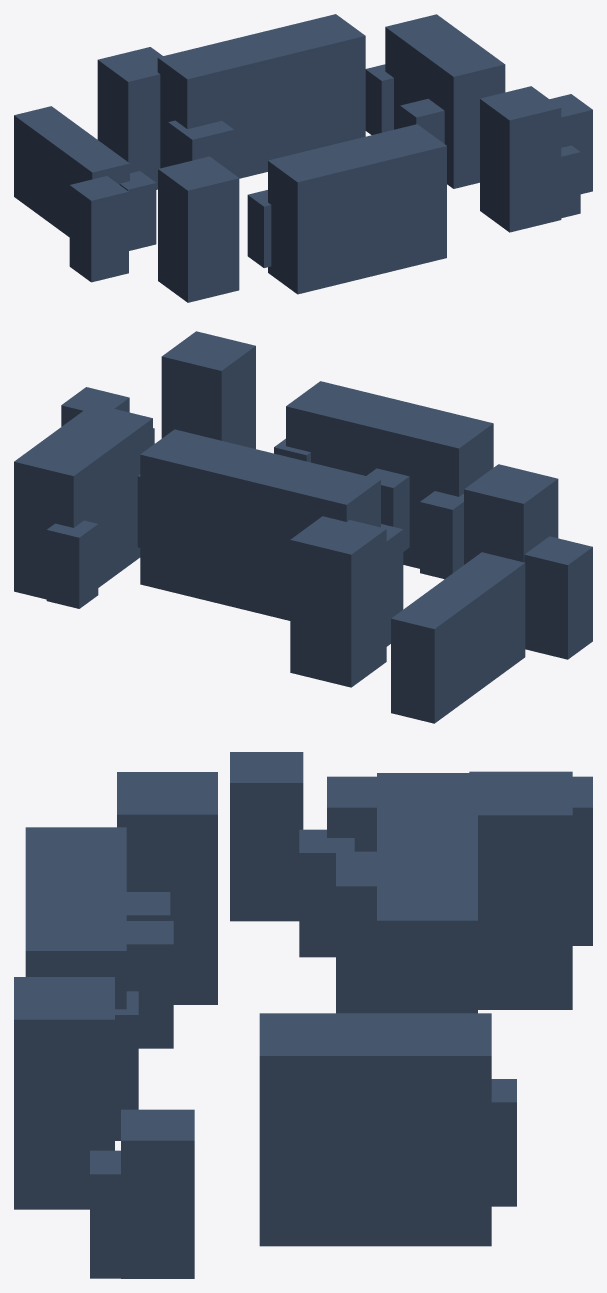
The model's file is vending-machine-scenery.dae.
3 views of the same model, one above another, from view 1: azimuth 30°, elevation 25°; view 2: azimuth 150°, elevation 25°; view 3: azimuth 270°, elevation 25° (orthographic). The views are drawn at different scales.
Parts seen in each view (by area): view 1: Cube_017, Cube_013, Cube_014, Cube_016, Cube_015, Cube_026, Cube_012, Cube_027, Cube_011, Cube_025, Cube_018, Cube_023 (+3 smaller); view 2: Cube_013, Cube_014, Cube_026, Cube_017, Cube_012, Cube_016, Cube_015, Cube_027, Cube_023, Cube_020, Cube_021, Cube_011 (+1 smaller); view 3: Cube_014, Cube_013, Cube_012, Cube_016, Cube_015, Cube_017, Cube_025, Cube_027, Cube_026, Cube_011, Cube_021, Cube_018 (+4 smaller).
Boxes of the visible parts, x1,y1,x2,y2 form: Cube_017: (268, 124, 446, 294); Cube_013: (157, 14, 365, 178); Cube_014: (385, 14, 505, 188); Cube_016: (480, 86, 561, 232); Cube_015: (158, 156, 239, 302); Cube_026: (14, 106, 129, 237); Cube_012: (97, 47, 162, 189); Cube_027: (69, 176, 128, 282); Cube_011: (168, 120, 234, 173); Cube_025: (549, 94, 592, 194); Cube_018: (119, 171, 156, 250); Cube_023: (365, 64, 393, 134); Cube_013: (140, 429, 380, 620); Cube_014: (14, 403, 152, 599); Cube_026: (391, 552, 525, 723); Cube_017: (286, 381, 493, 568); Cube_012: (290, 516, 386, 687); Cube_016: (161, 331, 255, 448); Cube_015: (464, 464, 558, 564); Cube_027: (524, 536, 592, 659); Cube_023: (46, 520, 98, 608); Cube_020: (420, 491, 463, 579); Cube_021: (367, 468, 409, 551); Cube_011: (381, 524, 403, 646); Cube_014: (259, 1013, 491, 1246); Cube_013: (377, 773, 477, 1013); Cube_012: (469, 771, 572, 1009); Cube_016: (14, 977, 114, 1209); Cube_015: (117, 772, 217, 1004); Cube_017: (25, 827, 126, 1140); Cube_025: (121, 1109, 194, 1278); Cube_027: (230, 752, 303, 921); Cube_026: (327, 776, 592, 945); Cube_011: (336, 851, 376, 1013); Cube_021: (126, 921, 173, 1048); Cube_018: (299, 829, 354, 957).
Size of the model in its own units: 45.43 by 28.61 by 13.76.
